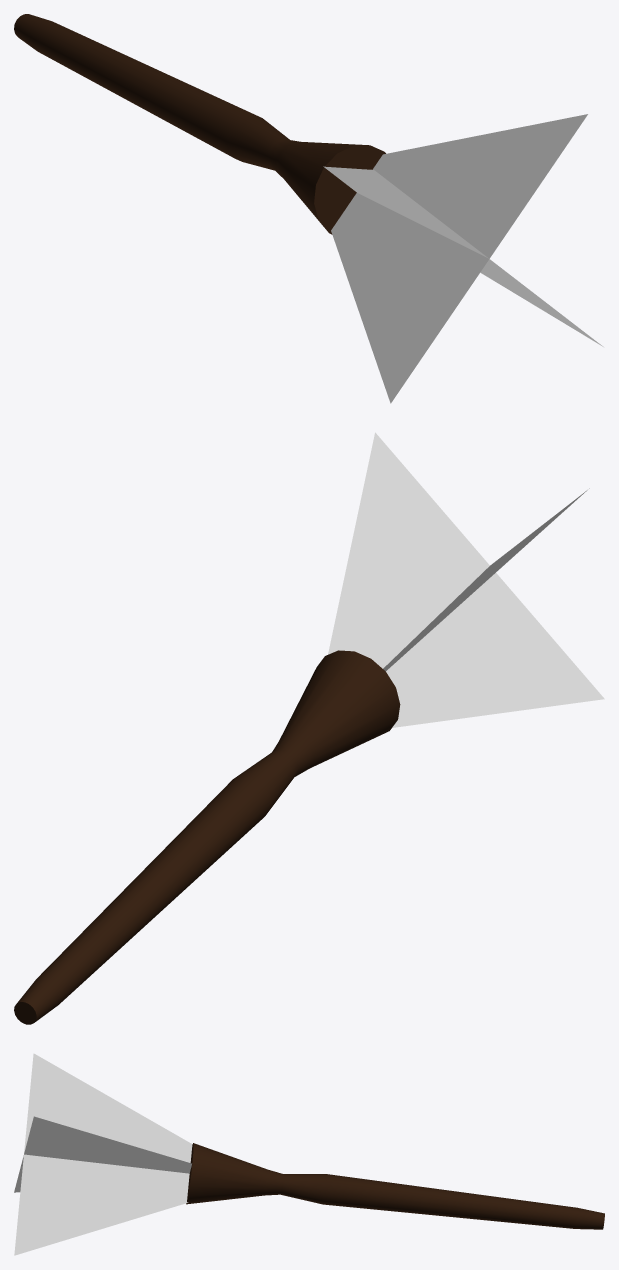
The model's file is FeatherDuster2.fbx.
3 views of the same model, one above another, from view 1: azimuth 30°, elevation 25°; view 2: azimuth 150°, elevation 25°; view 3: azimuth 270°, elevation 25° (orthographic). The views are drawn at different scales.
Visible parts, largest first — view 1: polySurface8; view 2: polySurface8; view 3: polySurface8.
Boxes of the visible parts, box(x1,y1,x2,y2) form: polySurface8: box(14, 14, 603, 403); polySurface8: box(14, 432, 604, 1024); polySurface8: box(14, 1053, 604, 1255).
Bounding box in the file's own units: 53.82 × 55.46 × 205.
